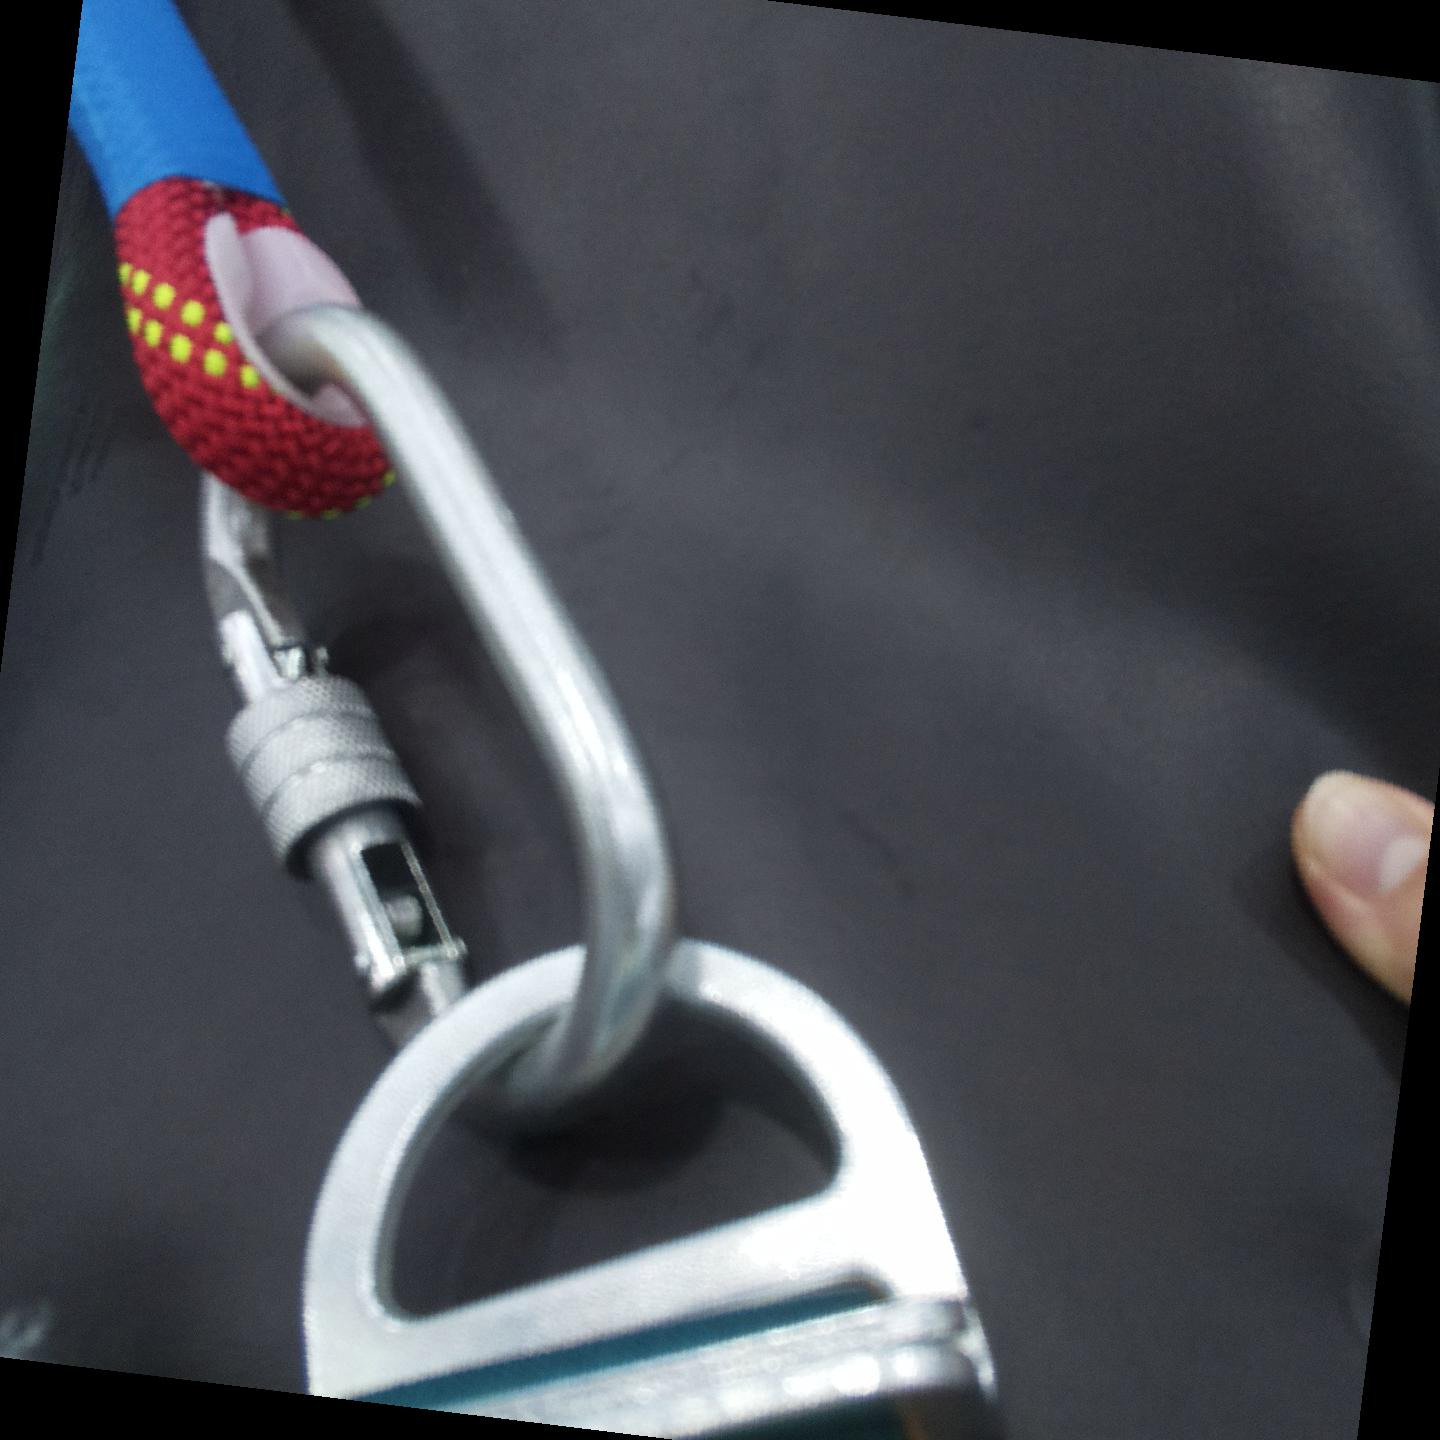SUCCESS: (189, 583, 1006, 1366)
